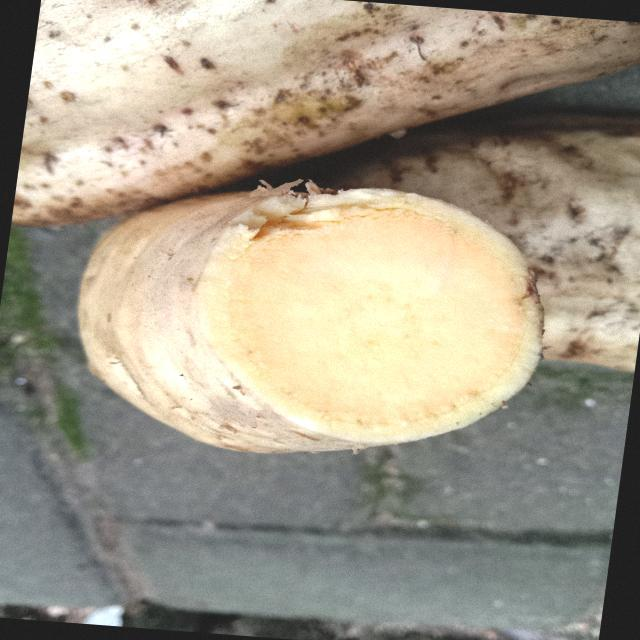Healthy Sweet Potato: (197, 184, 543, 446)
